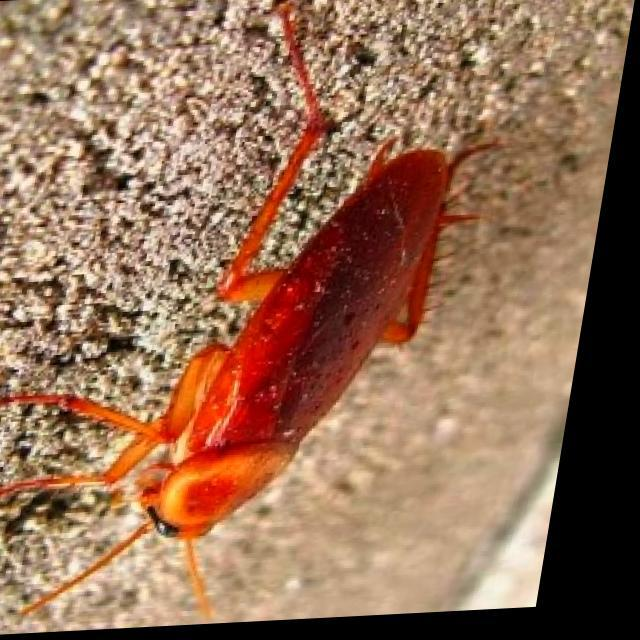cockroach: (0, 0, 507, 623)
